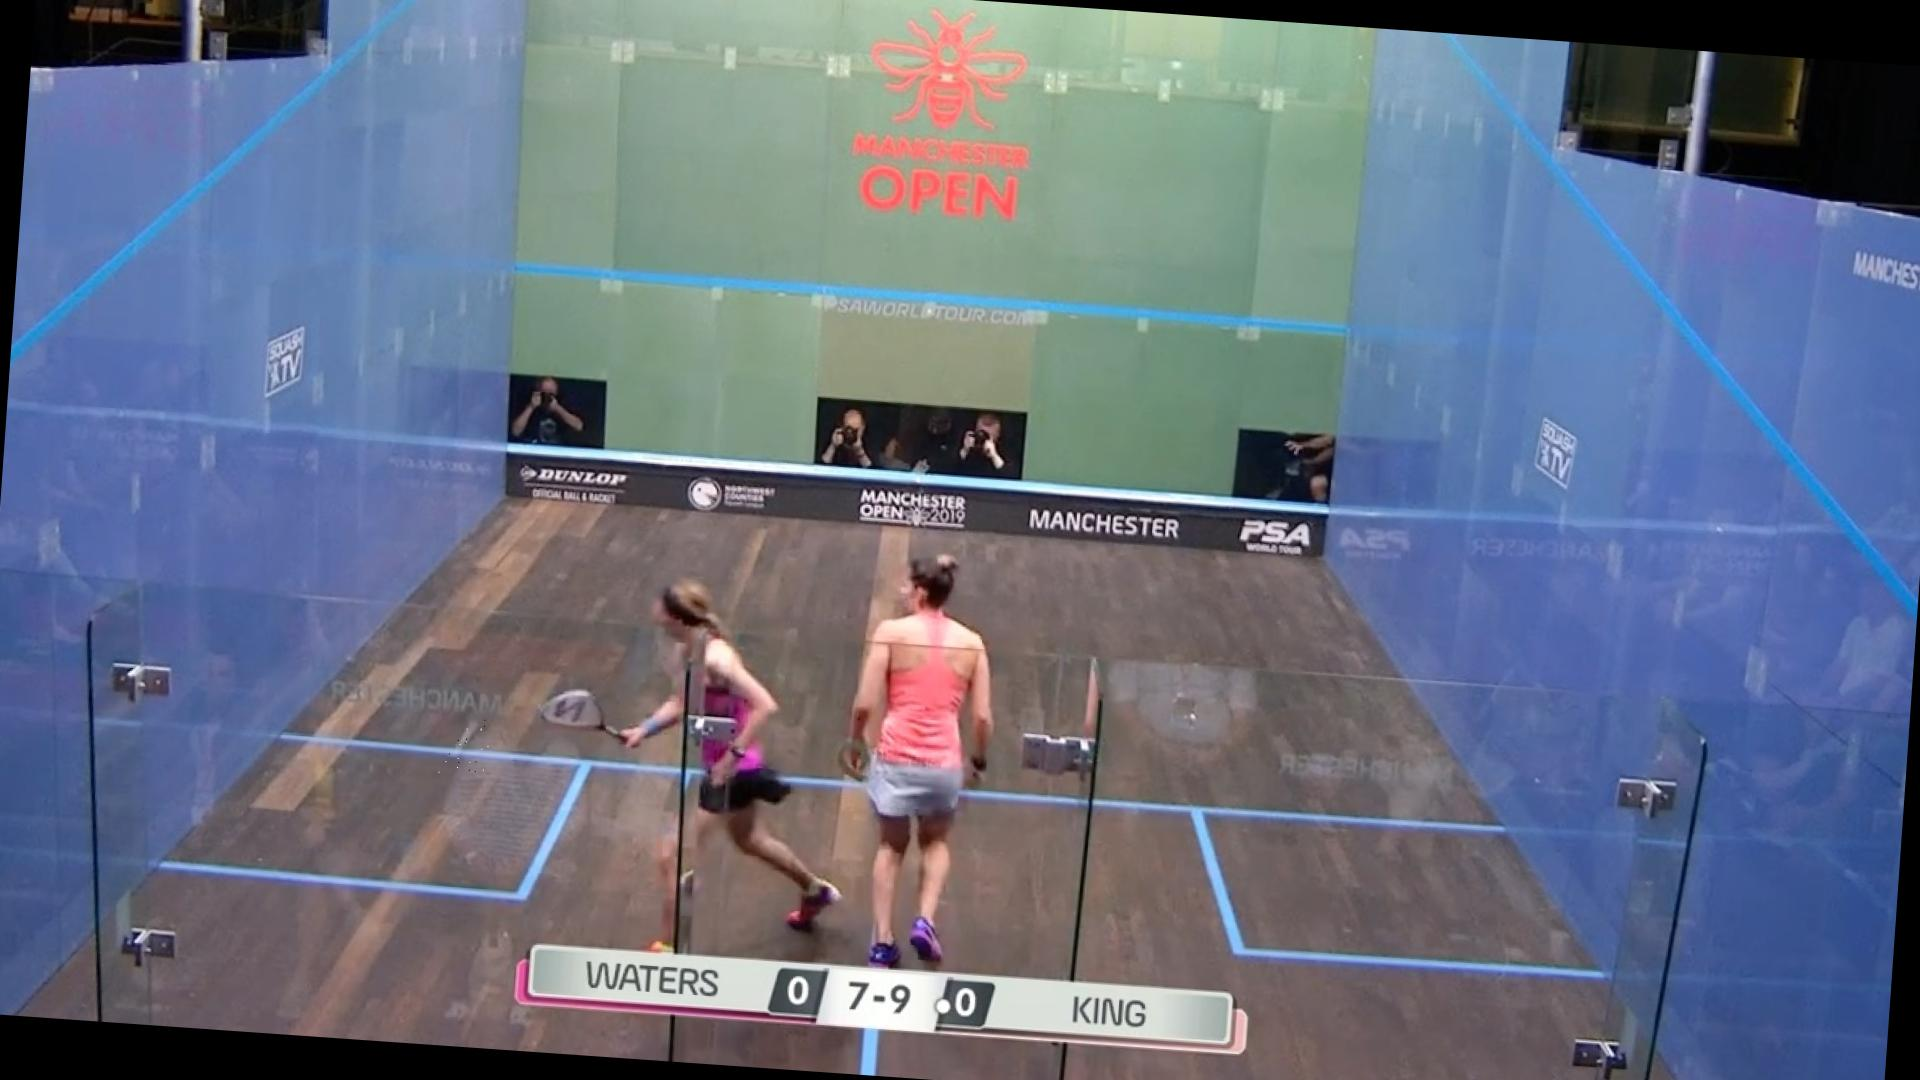Squash-Ball: (438, 716, 491, 777)
